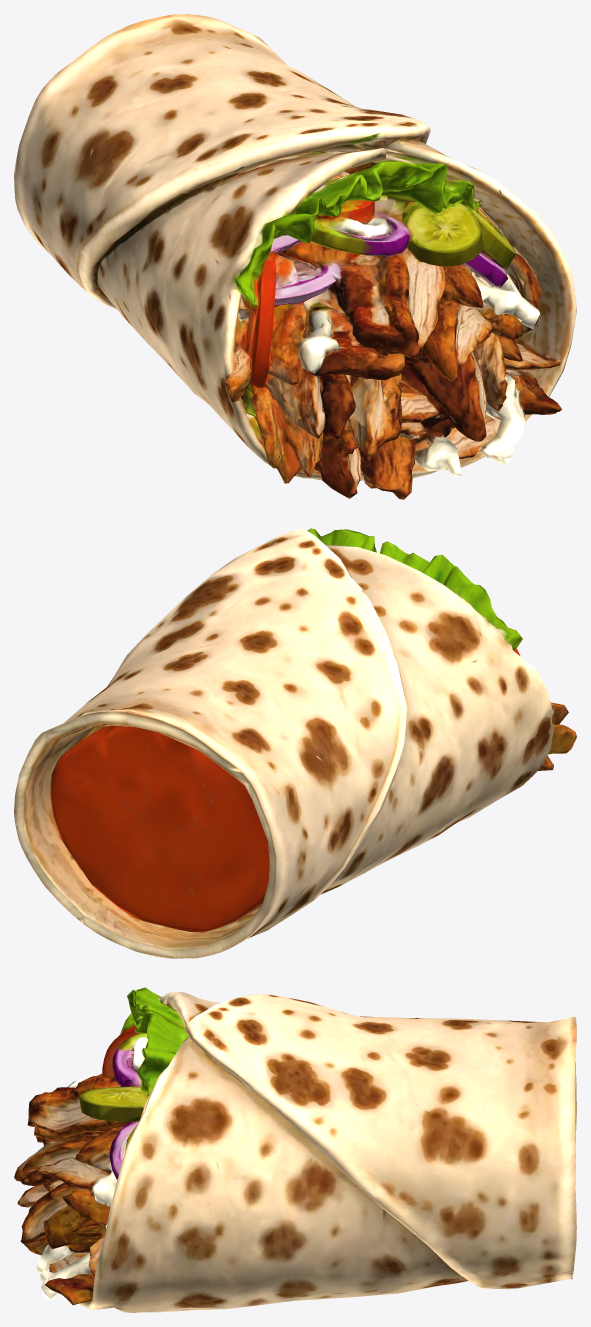
Rendered from dish_shawarma.glb.
3 renders of one model, top to bottom at view 1: azimuth 30°, elevation 25°; view 2: azimuth 150°, elevation 25°; view 3: azimuth 270°, elevation 25°, orthographic. The views are drawn at different scales.
Size of the model in its own units: 1.28 by 1.08 by 1.89.
1 material, 1 textured.
